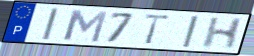7: (107, 12, 136, 44)
H: (200, 17, 246, 50)
I: (40, 7, 61, 41), (180, 15, 201, 49)
M: (62, 8, 110, 44)
T: (142, 13, 173, 46)
